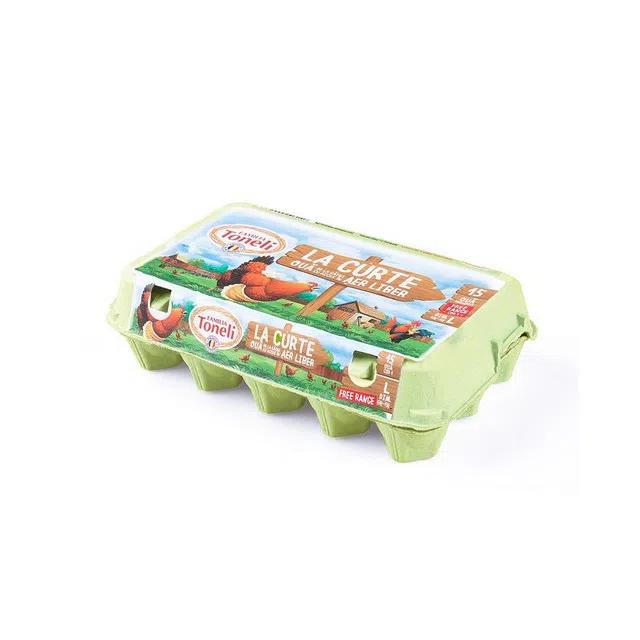eggs: (105, 200, 540, 464)
